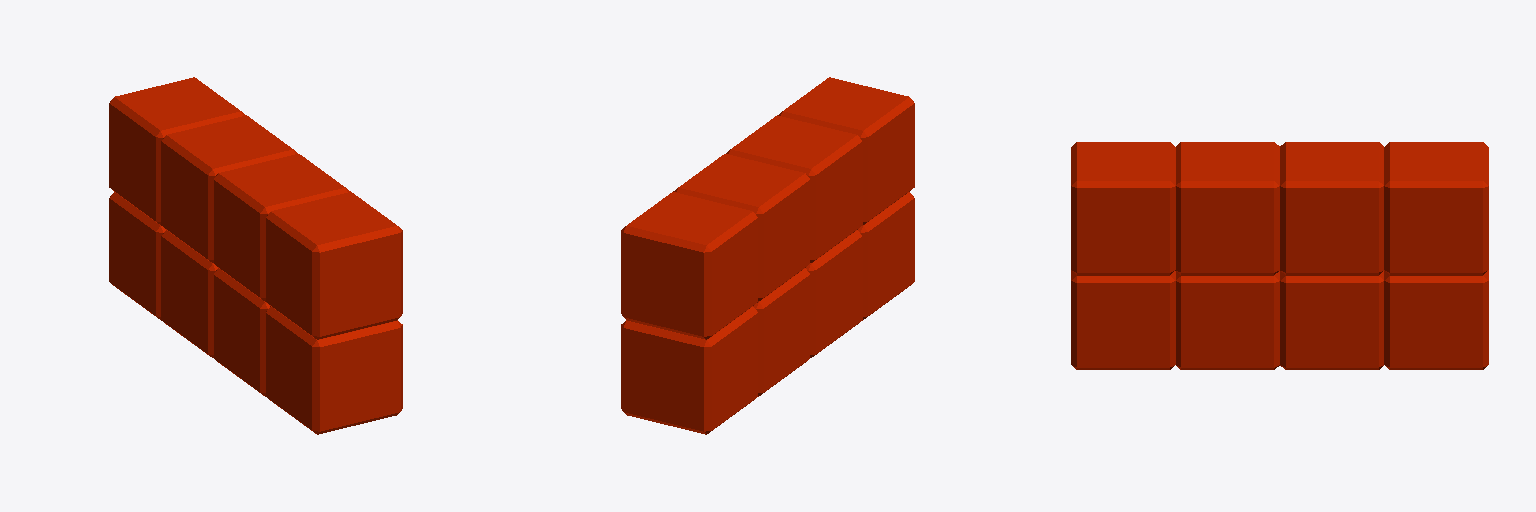
File: piece1.obj
The picture shows the model from 3 angles: view 1: azimuth 30°, elevation 25°; view 2: azimuth 150°, elevation 25°; view 3: azimuth 270°, elevation 25°; orthographic projection.
Parts seen in each view (by area): view 1: Cube.001; view 2: Cube.001; view 3: Cube.001.
Part boxes in pixels (x1,y1,x2,y2): Cube.001: (109, 77, 402, 434); Cube.001: (621, 77, 914, 434); Cube.001: (1071, 142, 1488, 369).
Size of the model in its own units: 2 by 4.01 by 7.99.